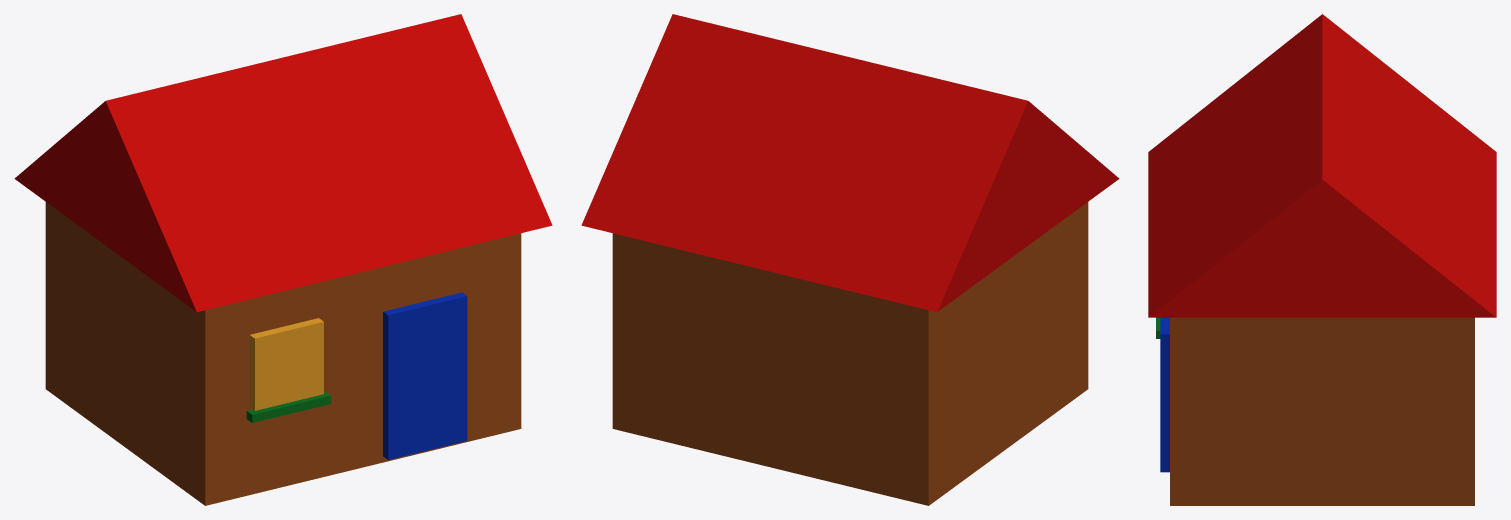
File: playhouse.obj
3 renders of one model, left to right at view 1: azimuth 30°, elevation 25°; view 2: azimuth 150°, elevation 25°; view 3: azimuth 270°, elevation 25°, orthographic. The views are drawn at different scales.
Parts seen in each view (by area): view 1: playhouse; view 2: playhouse; view 3: playhouse.
Part boxes in pixels (left/top/right/bottom): playhouse: left=14, top=14, right=552, bottom=505; playhouse: left=581, top=14, right=1119, bottom=505; playhouse: left=1148, top=14, right=1496, bottom=505.
Size of the model in its own units: 1.8 by 1.7 by 1.6.
